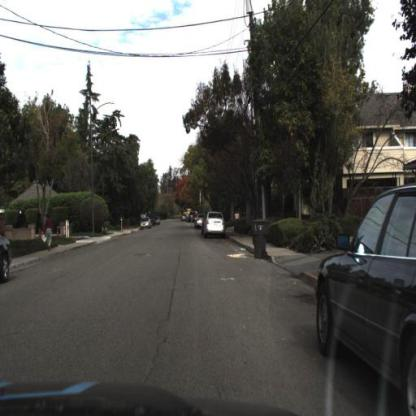car: (314, 184, 416, 416), (201, 208, 228, 243), (42, 209, 56, 260), (2, 234, 14, 285), (139, 213, 155, 233), (138, 214, 155, 232), (194, 210, 206, 232), (153, 212, 163, 230)
